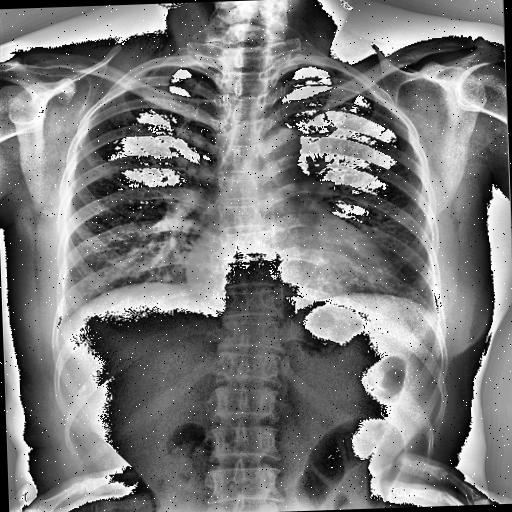3- Cardiomegaly: (181, 224, 409, 305), (183, 240, 409, 315), (182, 251, 400, 300)
